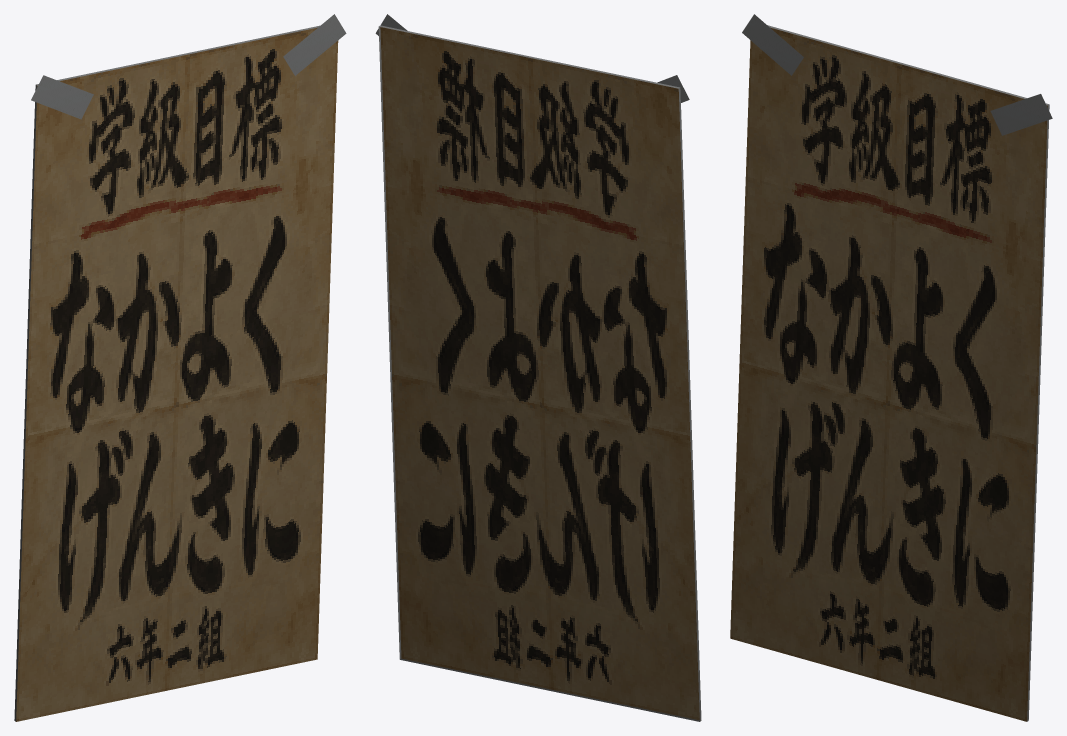
Rendered from prop_poster-mokuhyo-5.glb.
3 renders of one model, left to right at view 1: azimuth 30°, elevation 25°; view 2: azimuth 150°, elevation 25°; view 3: azimuth 330°, elevation 25°, orthographic.
Visible parts, largest first — view 1: prop_poster-mokuhyo-5; view 2: prop_poster-mokuhyo-5; view 3: prop_poster-mokuhyo-5.
Part boxes in pixels (box(x1,y1,x2,y2)): prop_poster-mokuhyo-5: box(14, 14, 346, 721); prop_poster-mokuhyo-5: box(375, 14, 701, 721); prop_poster-mokuhyo-5: box(730, 14, 1052, 721).
Bounding box in the file's own units: 0.335 × 0.6351 × 0.0055.
2 materials, 2 textured.
